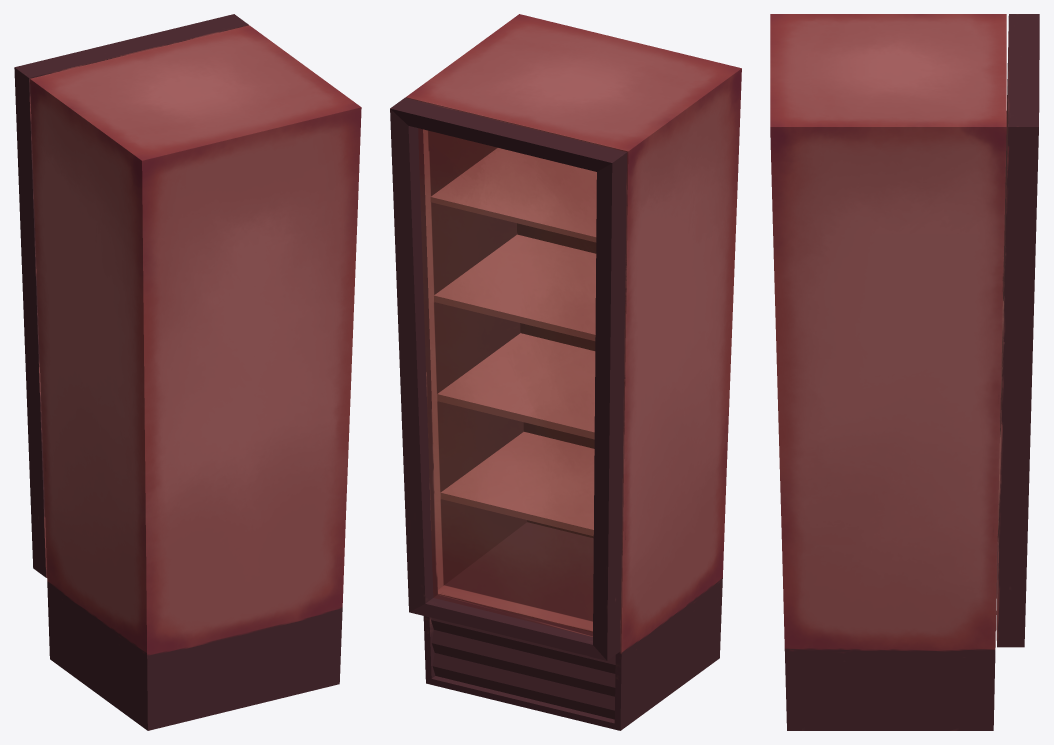
File: Station_Fridge.fbx
3 renders of one model, left to right at view 1: azimuth 30°, elevation 25°; view 2: azimuth 150°, elevation 25°; view 3: azimuth 270°, elevation 25°, orthographic. The views are drawn at different scales.
Visible parts, largest first — view 1: m_Heladera, m_Heladera_Puerta; view 2: m_Heladera, m_Heladera_Puerta; view 3: m_Heladera, m_Heladera_Puerta.
Part boxes in pixels (<box>): m_Heladera: <box>30,25,361,730</box>; m_Heladera_Puerta: <box>14,14,248,577</box>; m_Heladera: <box>405,14,741,730</box>; m_Heladera_Puerta: <box>390,97,627,660</box>; m_Heladera: <box>770,14,1006,730</box>; m_Heladera_Puerta: <box>996,14,1039,647</box>.
Size of the model in its own units: 219 by 552 by 221.
